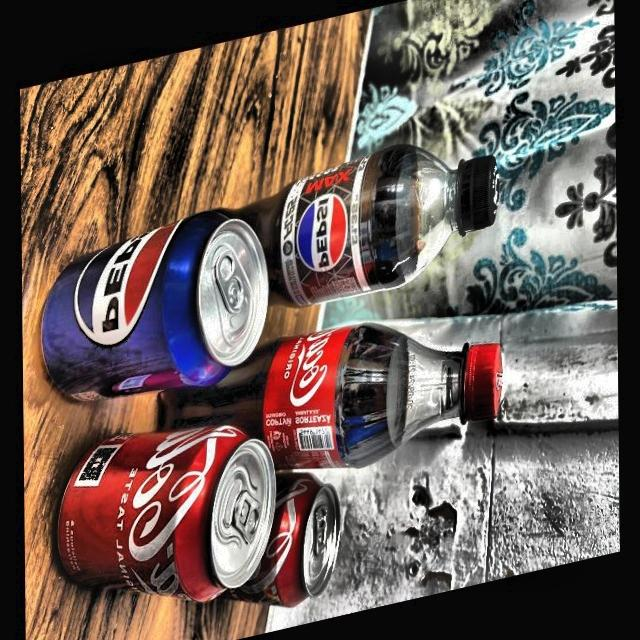coke-bottle: (160, 334, 505, 470)
coke-can: (63, 430, 266, 613), (254, 472, 338, 608)
pepsi-bottle: (202, 152, 508, 310)
pepsi-can: (48, 206, 262, 392)
